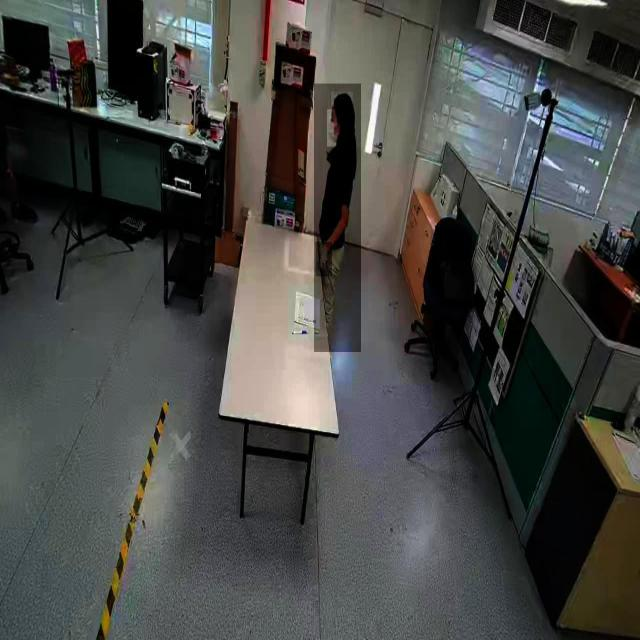face_mask: (327, 109, 343, 147)
hand_glove: (316, 242, 332, 277)
head_nohelmet: (331, 91, 353, 108)
person: (314, 83, 362, 353)
